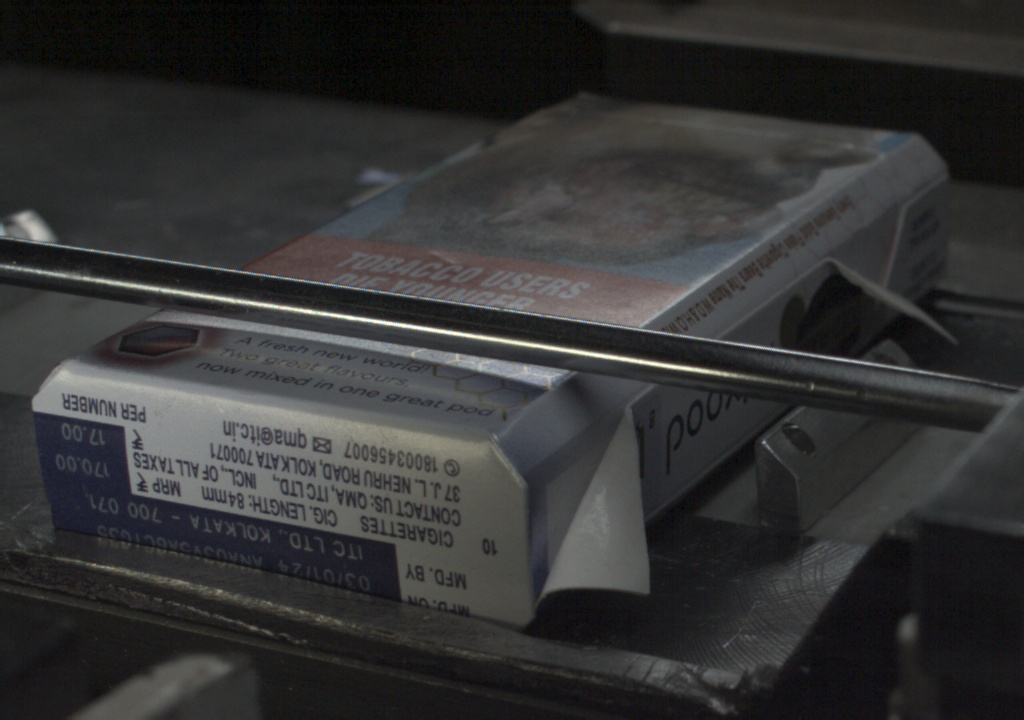g_bottom: (33, 369, 537, 634)
g_label: (46, 496, 396, 606)
g_miter: (902, 160, 948, 209)
ng_lmiter: (536, 397, 652, 600), (831, 255, 930, 335)
price: (44, 421, 131, 494)
